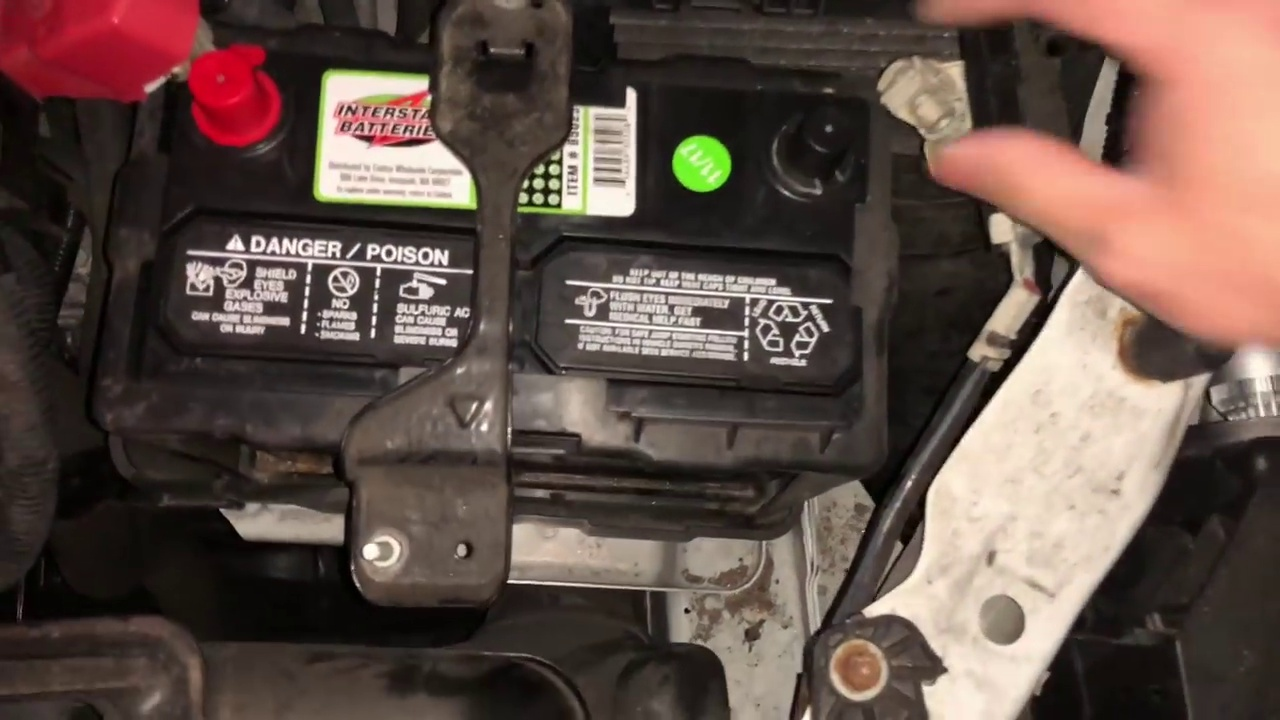battery: (111, 11, 879, 441)
pos_disconnected: (19, 5, 309, 151)
